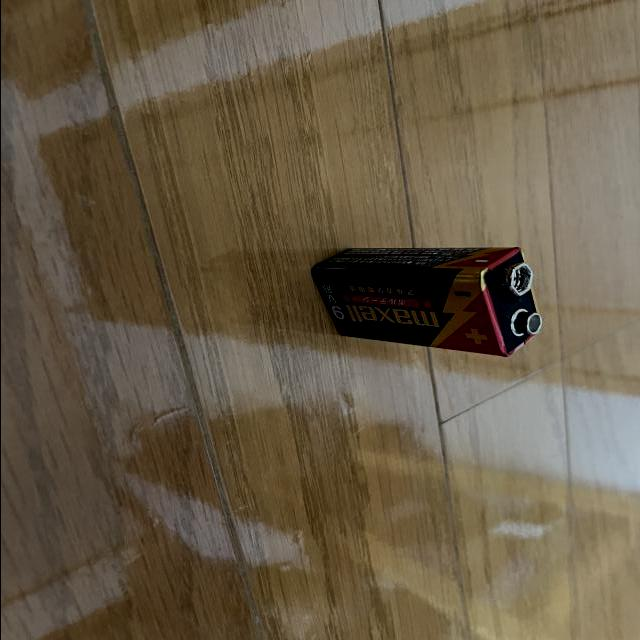9V: (309, 247, 541, 358)
